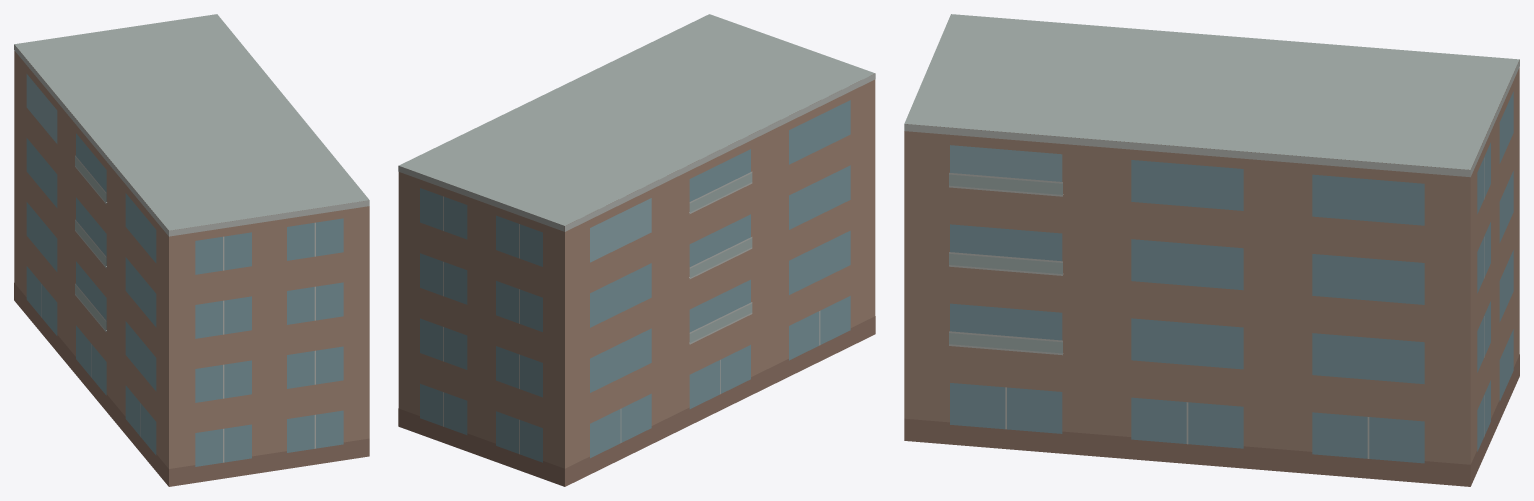
Rendered from survey-upis-33017819.glb.
3 renders of one model, left to right at view 1: azimuth 30°, elevation 25°; view 2: azimuth 150°, elevation 25°; view 3: azimuth 270°, elevation 25°, orthographic. The views are drawn at different scales.
Visible parts, largest first — view 1: survey-upis-33017819.tmp; view 2: survey-upis-33017819.tmp; view 3: survey-upis-33017819.tmp.
Part boxes in pixels (x1=…): survey-upis-33017819.tmp: x1=14, y1=14, x2=369, y2=486; survey-upis-33017819.tmp: x1=398, y1=14, x2=875, y2=486; survey-upis-33017819.tmp: x1=904, y1=14, x2=1519, y2=486.
Bounding box in the file's own units: 11.19 × 10.6 × 18.66.
